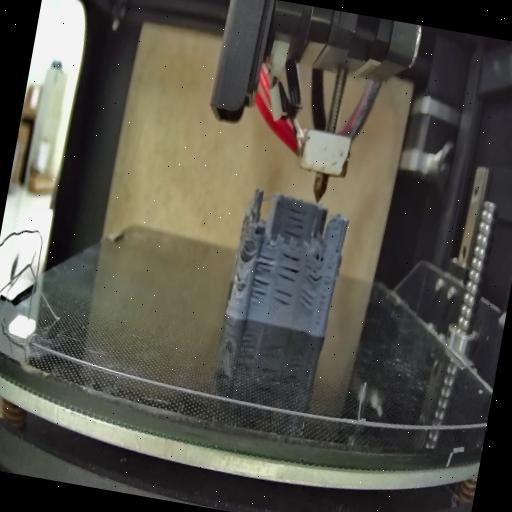cracks: (312, 264, 334, 328), (280, 204, 311, 242), (274, 251, 301, 282), (248, 276, 271, 306), (294, 290, 317, 315), (302, 260, 324, 286), (270, 286, 291, 310), (254, 250, 275, 274), (237, 241, 252, 258), (233, 266, 243, 286), (332, 242, 340, 258)
